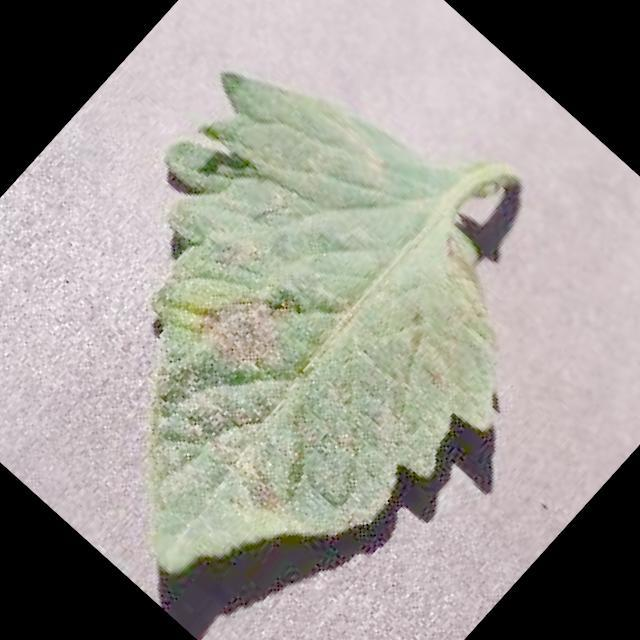Tomato Early blight leaf: (0, 17, 597, 640)
